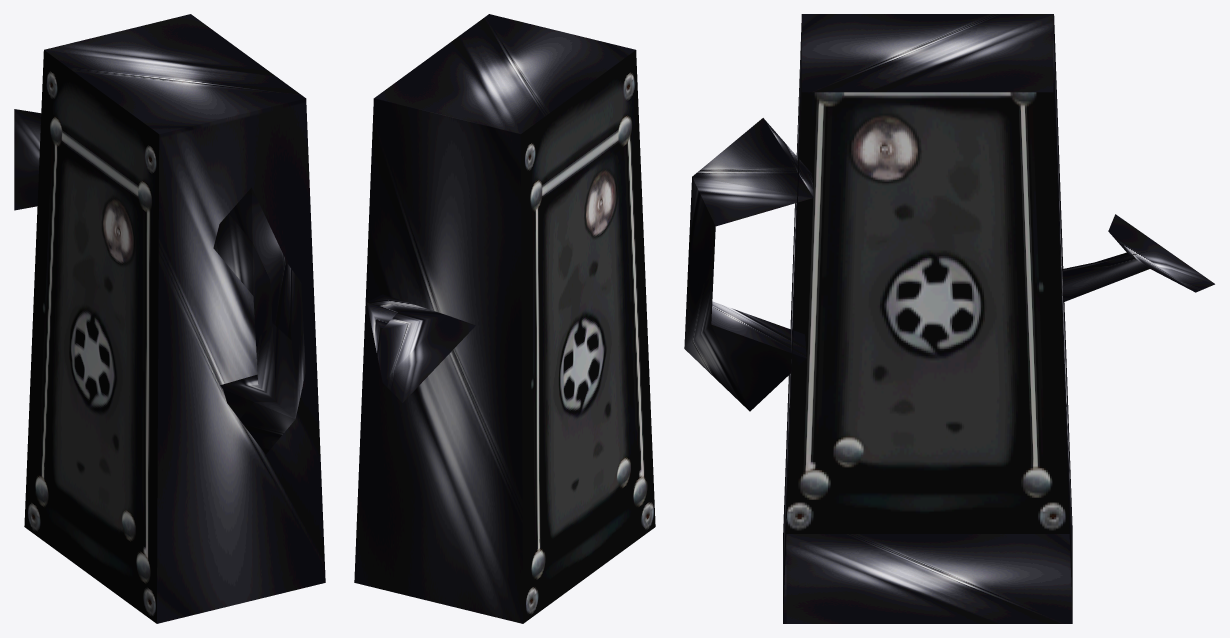
The model's file is TelefonFürWand_1602.glb.
3 views of the same model, side by side, from view 1: azimuth 30°, elevation 25°; view 2: azimuth 150°, elevation 25°; view 3: azimuth 270°, elevation 25° (orthographic). The views are drawn at different scales.
Parts seen in each view (by area): view 1: polySurfaceShape3, polySurfaceShape2, pCylinderShape69, pCylinderShape85; view 2: polySurfaceShape3, polySurfaceShape2, pCylinderShape85; view 3: polySurfaceShape2, polySurfaceShape3, pCylinderShape69, pCylinderShape85.
Boxes of the visible parts, box(x1,y1,x2,y2) form: polySurfaceShape3: box(44, 14, 325, 623); polySurfaceShape2: box(24, 50, 159, 623); pCylinderShape69: box(213, 187, 305, 454); pCylinderShape85: box(14, 109, 41, 210); polySurfaceShape3: box(354, 14, 635, 623); polySurfaceShape2: box(520, 50, 655, 623); pCylinderShape85: box(366, 294, 475, 402); polySurfaceShape2: box(786, 92, 1069, 533); polySurfaceShape3: box(783, 14, 1072, 623); pCylinderShape69: box(684, 118, 813, 411); pCylinderShape85: box(1062, 214, 1214, 302).
Size of the model in its own units: 0.0456 by 0.1242 by 0.1137.
Materials: 4 (4 with a texture image).
